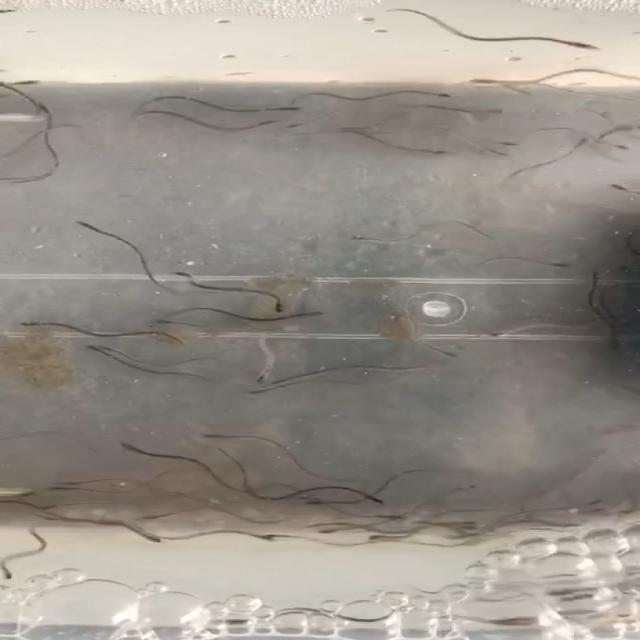active_glass_eel: (23, 97, 62, 123), (552, 34, 604, 52), (296, 496, 341, 513), (543, 580, 582, 599), (249, 114, 286, 132), (256, 104, 304, 117), (558, 588, 589, 608), (483, 328, 530, 341), (422, 84, 462, 99), (442, 517, 482, 532), (241, 531, 276, 548), (76, 218, 109, 236), (431, 346, 464, 364), (343, 230, 385, 244), (368, 509, 410, 523), (465, 74, 501, 90), (18, 317, 58, 331), (5, 488, 44, 502), (423, 146, 461, 160), (602, 183, 640, 197), (211, 614, 249, 628), (0, 78, 48, 89), (245, 369, 276, 386), (254, 528, 294, 541), (480, 142, 512, 158), (202, 430, 244, 442), (52, 484, 88, 498), (130, 531, 166, 545), (483, 105, 515, 120), (267, 293, 291, 313), (94, 339, 128, 353), (136, 510, 172, 523), (140, 318, 182, 329), (119, 441, 152, 455), (492, 138, 522, 152), (601, 138, 631, 152), (318, 526, 348, 540), (85, 341, 107, 360), (572, 135, 596, 152), (353, 492, 387, 504), (58, 478, 94, 489), (544, 258, 572, 270), (0, 562, 16, 583), (360, 536, 393, 546), (37, 500, 71, 509), (283, 122, 308, 134), (248, 387, 278, 397)
